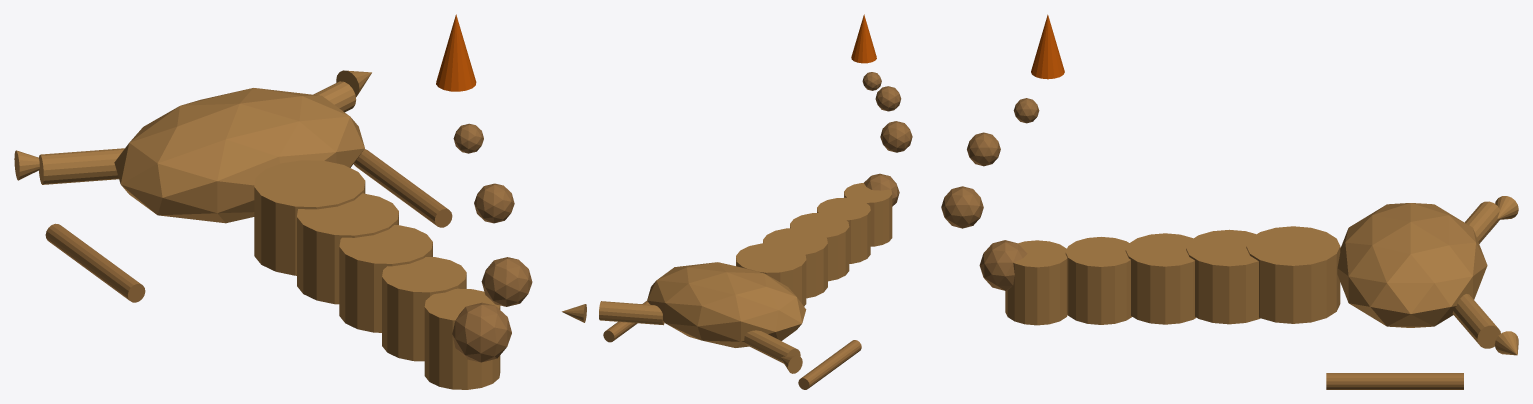
File: scorpion.glb
3 renders of one model, left to right at view 1: azimuth 30°, elevation 25°; view 2: azimuth 150°, elevation 25°; view 3: azimuth 270°, elevation 25°, orthographic. The views are drawn at different scales.
Parts seen in each view (by area): view 1: part_000, part_001, part_002, part_003, part_004, part_005, part_006, part_019, part_007, part_010, part_015, part_008 (+10 smaller); view 2: part_000, part_001, part_002, part_003, part_004, part_005, part_021, part_019, part_007, part_010, part_011, part_006 (+2 smaller); view 3: part_000, part_001, part_002, part_003, part_004, part_005, part_015, part_006, part_021, part_007, part_016, part_010 (+5 smaller).
Boxes of the visible parts, left/top/right/bottom form: part_000: left=114, top=88, right=364, bottom=223; part_001: left=254, top=160, right=365, bottom=275; part_002: left=297, top=193, right=398, bottom=304; part_003: left=339, top=225, right=432, bottom=332; part_004: left=382, top=257, right=466, bottom=361; part_005: left=424, top=288, right=500, bottom=389; part_006: left=452, top=302, right=511, bottom=362; part_019: left=39, top=148, right=124, bottom=184; part_007: left=481, top=257, right=532, bottom=306; part_010: left=436, top=14, right=476, bottom=91; part_015: left=353, top=149, right=429, bottom=212; part_008: left=474, top=183, right=514, bottom=223; part_000: left=647, top=262, right=806, bottom=347; part_001: left=736, top=243, right=806, bottom=306; part_002: left=763, top=228, right=827, bottom=298; part_003: left=790, top=213, right=849, bottom=281; part_004: left=817, top=197, right=870, bottom=263; part_005: left=844, top=183, right=892, bottom=246; part_021: left=599, top=301, right=664, bottom=325; part_019: left=744, top=330, right=800, bottom=363; part_007: left=880, top=121, right=912, bottom=152; part_010: left=851, top=14, right=876, bottom=63; part_011: left=798, top=348, right=849, bottom=389; part_006: left=864, top=173, right=899, bottom=206; part_000: left=1337, top=203, right=1487, bottom=327; part_001: left=1246, top=226, right=1340, bottom=323; part_002: left=1186, top=229, right=1260, bottom=324; part_003: left=1125, top=233, right=1196, bottom=324; part_004: left=1065, top=237, right=1132, bottom=324; part_005: left=1005, top=240, right=1067, bottom=325; part_015: left=1357, top=373, right=1463, bottom=389; part_006: left=979, top=240, right=1026, bottom=290; part_021: left=1452, top=294, right=1500, bottom=348; part_007: left=941, top=186, right=983, bottom=228; part_016: left=1334, top=373, right=1440, bottom=389; part_010: left=1031, top=14, right=1064, bottom=79.
Size of the model in its own units: 1.66 by 1.61 by 2.71.
